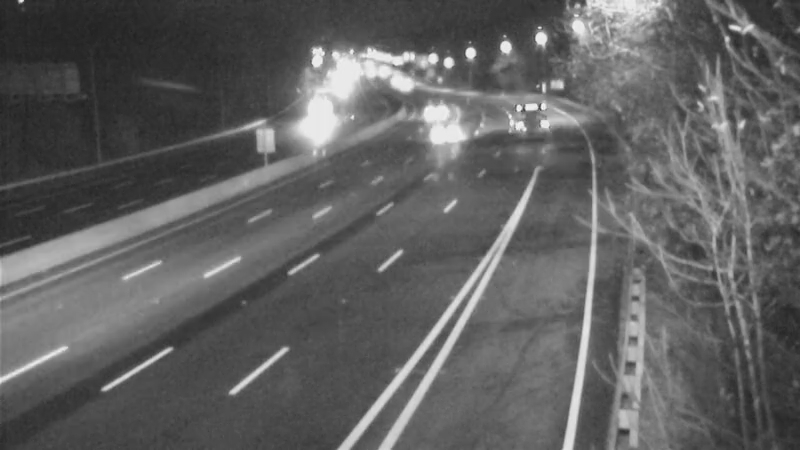vehicle: (366, 53, 416, 103), (380, 60, 430, 110), (498, 88, 548, 138), (406, 86, 456, 136), (415, 106, 465, 156), (292, 92, 342, 142)
